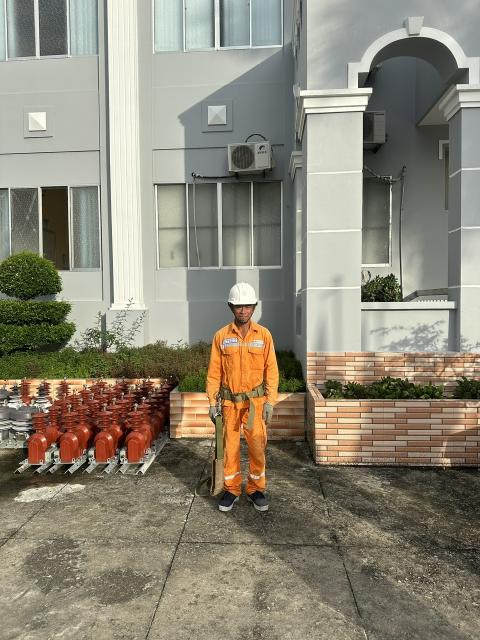gloves: (205, 401, 229, 423), (260, 405, 278, 427)
harness: (207, 383, 274, 409)
helmet: (218, 276, 268, 312)
shoes: (245, 485, 276, 518), (207, 485, 240, 514)
